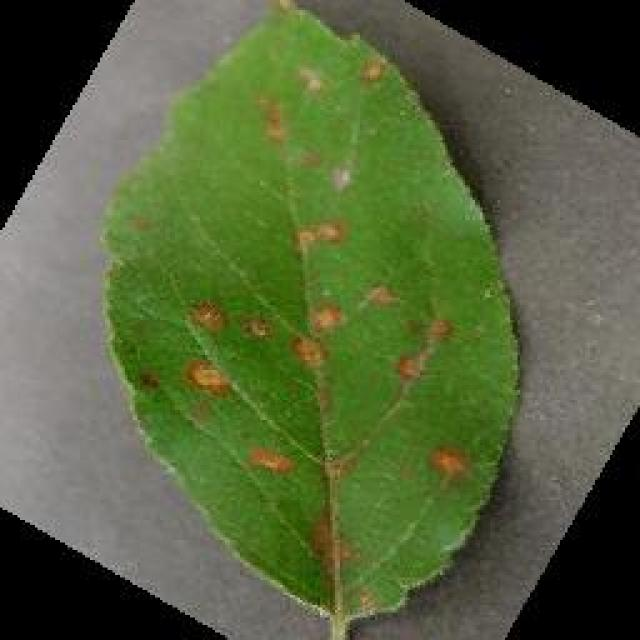apple cedar apple rust: (97, 0, 525, 635)
